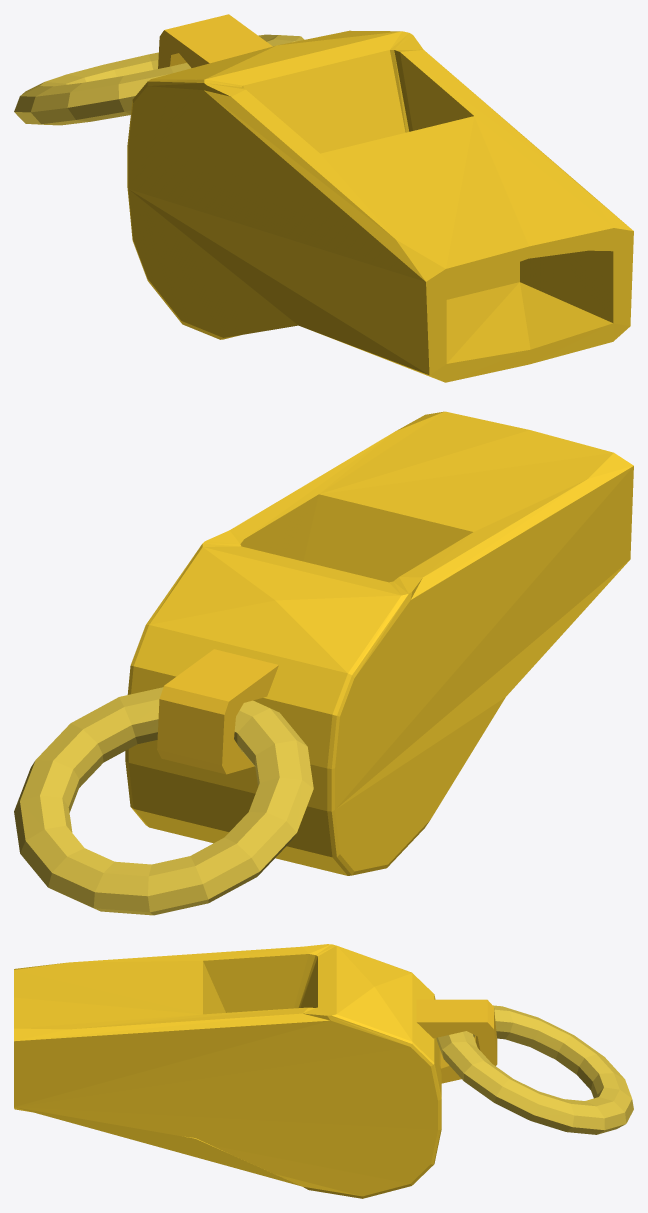
Rendered from whistle.glb.
3 renders of one model, top to bottom at view 1: azimuth 30°, elevation 25°; view 2: azimuth 150°, elevation 25°; view 3: azimuth 270°, elevation 25°, orthographic. The views are drawn at different scales.
Parts seen in each view (by area): view 1: Node1, Node3, Node2; view 2: Node1, Node3, Node2; view 3: Node1, Node3, Node2.
Part boxes in pixels (box(x1,y1,x2,y2)): Node1: box(127, 30, 633, 382); Node3: box(14, 34, 304, 125); Node2: box(158, 14, 272, 68); Node1: box(125, 411, 633, 875); Node3: box(14, 687, 313, 915); Node2: box(157, 649, 278, 774); Node1: box(14, 944, 441, 1198); Node3: box(436, 1005, 633, 1134); Node2: box(416, 999, 497, 1083).
Size of the model in its own units: 0.067 by 0.0624 by 0.1905.
